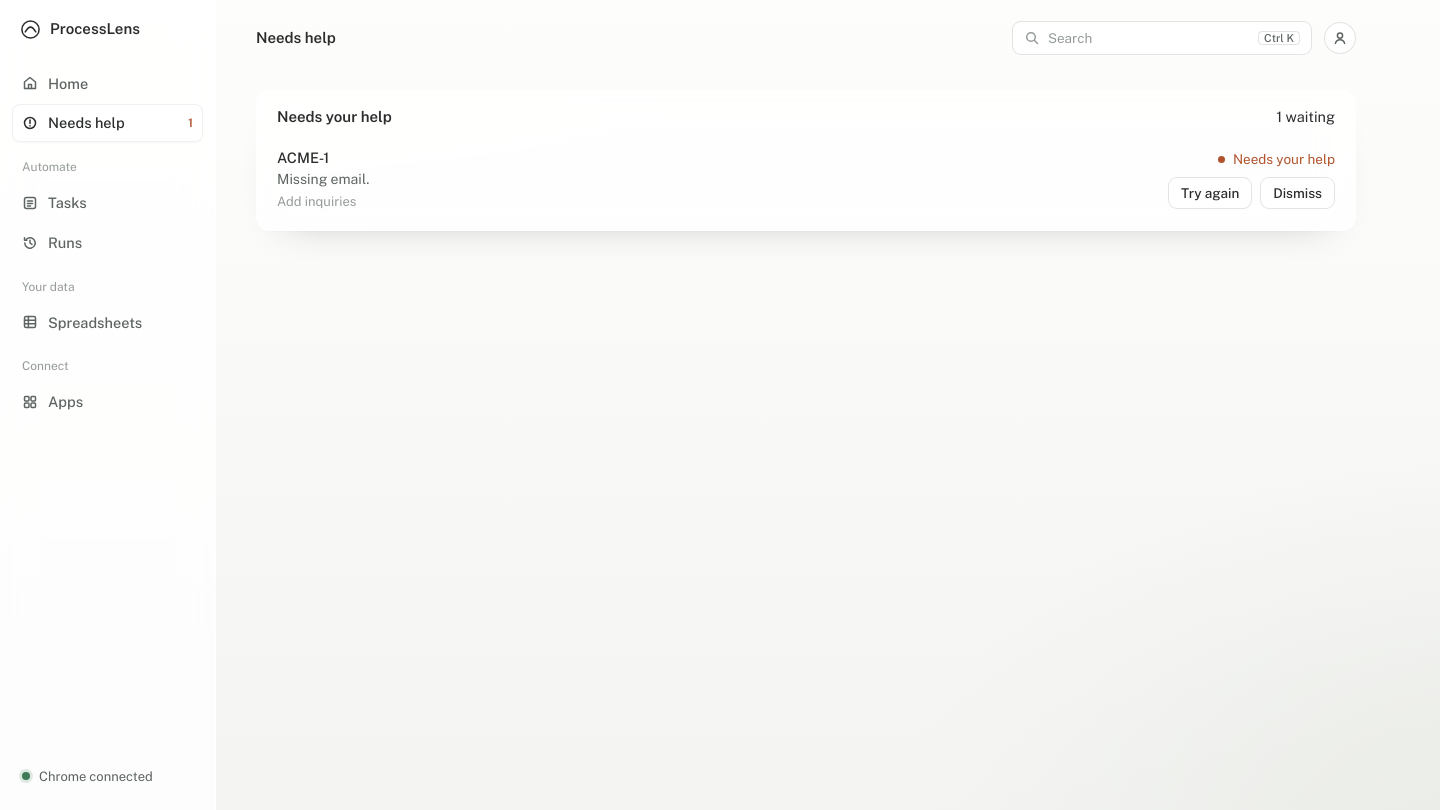
it: a refused request shows one plain sentence next to the button › shows a 409 from Dismiss beside the Dismiss button and does not retry
Click the button with class "record-dismiss".
click(1298, 193)  # box x1=1260 y1=177 x2=1335 y2=209
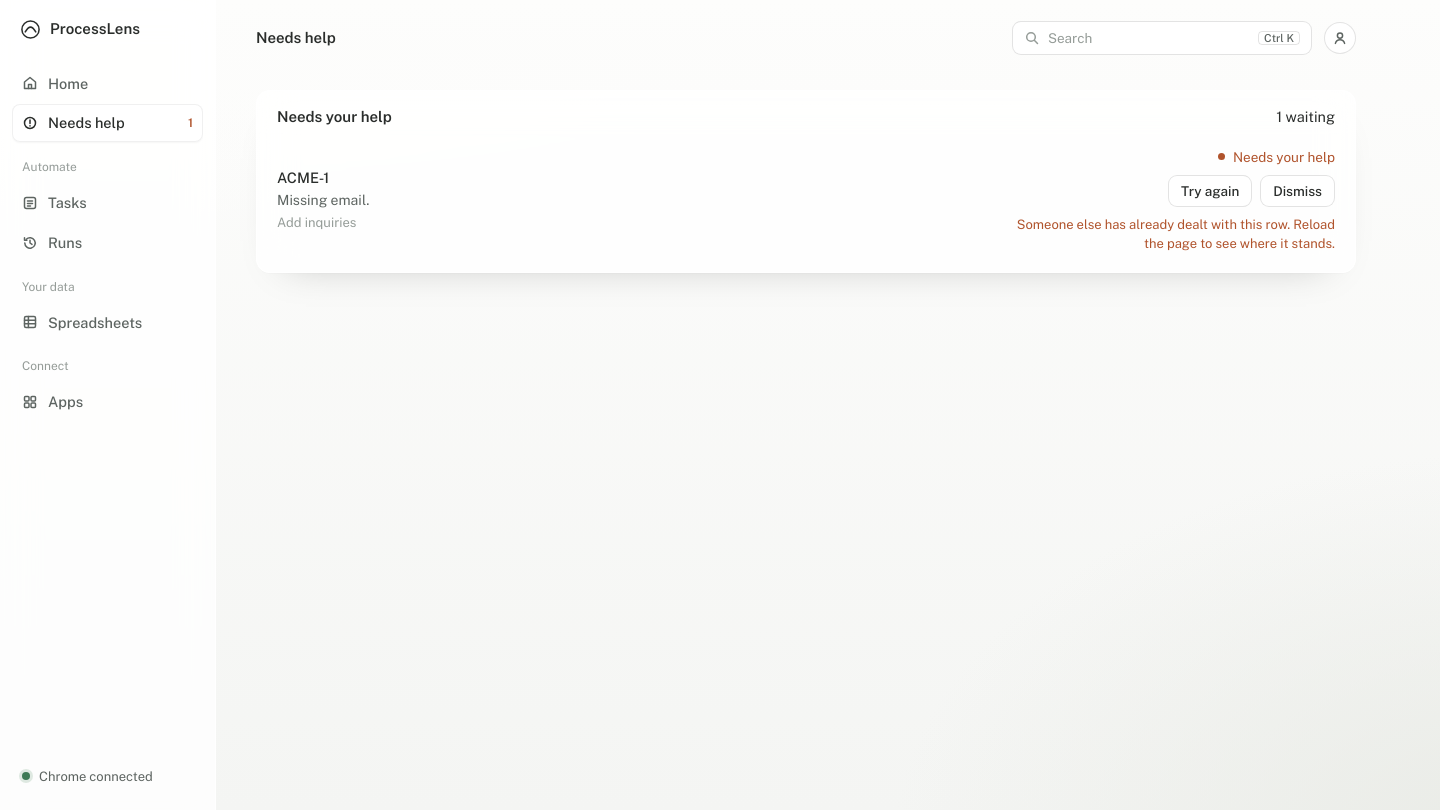
Expected: the message with class "action-error" shows "Someone else has already dealt with this row. Reload the page to see where it stands.", x1=1017 y1=217 x2=1335 y2=251
